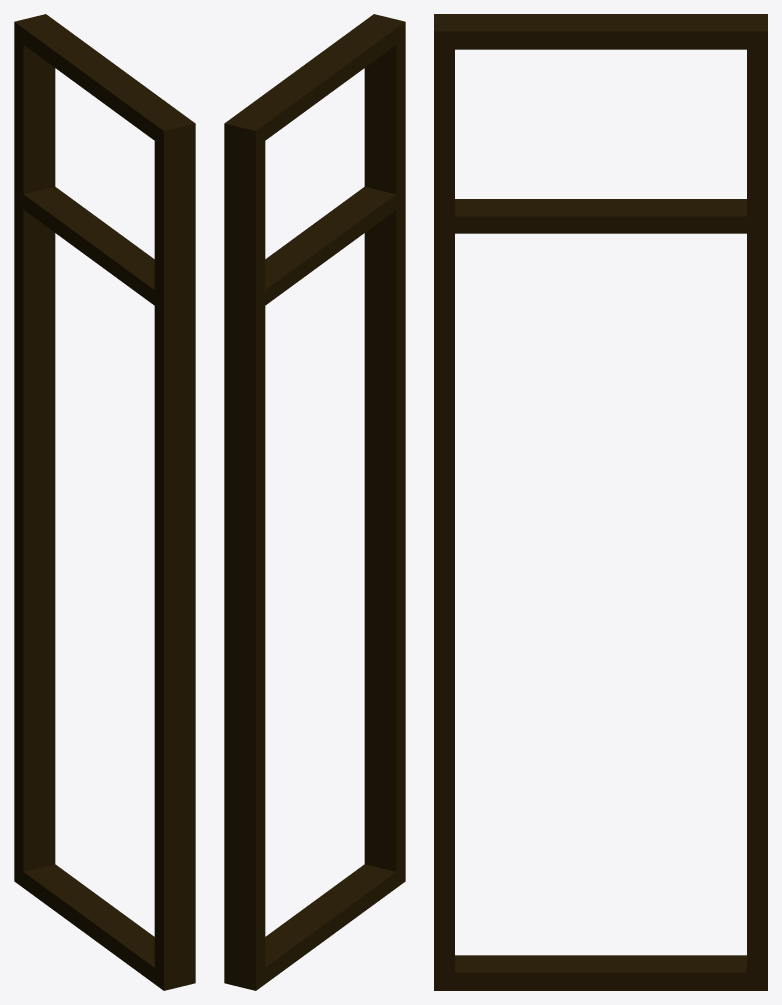
The model's file is Long Window (Frame-1).fbx.
The picture shows the model from 3 angles, left to right: view 1: azimuth 30°, elevation 25°; view 2: azimuth 150°, elevation 25°; view 3: azimuth 270°, elevation 25°; orthographic projection. The views are drawn at different scales.
Parts seen in each view (by area): view 1: Cube.004; view 2: Cube.004; view 3: Cube.004.
Part boxes in pixels (x1,y1,x2,y2): Cube.004: [14, 14, 195, 990]; Cube.004: [224, 14, 405, 990]; Cube.004: [434, 14, 767, 990].
Bounding box in the file's own units: 100 × 2600 × 820.
